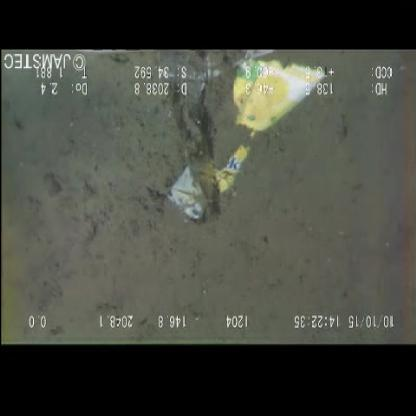Rác: (161, 51, 331, 226)
